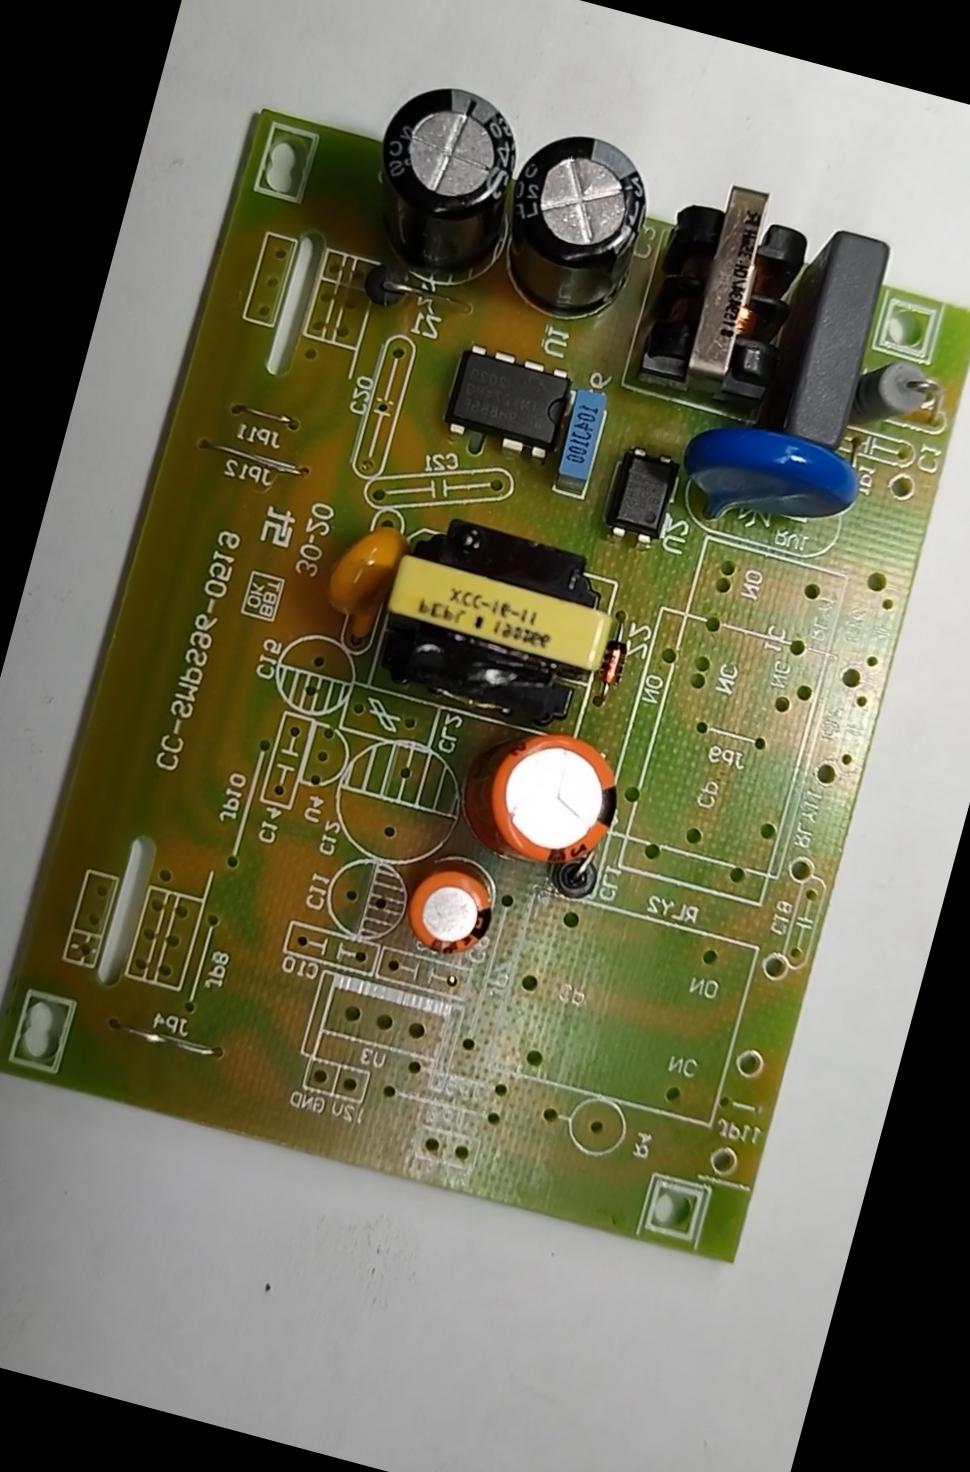Cap1: (456, 711, 634, 883)
Cap2: (396, 854, 504, 962)
Cap3: (477, 115, 660, 331)
Cap4: (348, 69, 528, 292)
MOSFET: (437, 333, 581, 461)
Mov: (661, 405, 870, 560)
Resistor: (843, 344, 941, 451)
Transformer: (363, 504, 629, 732), (634, 165, 826, 409)
